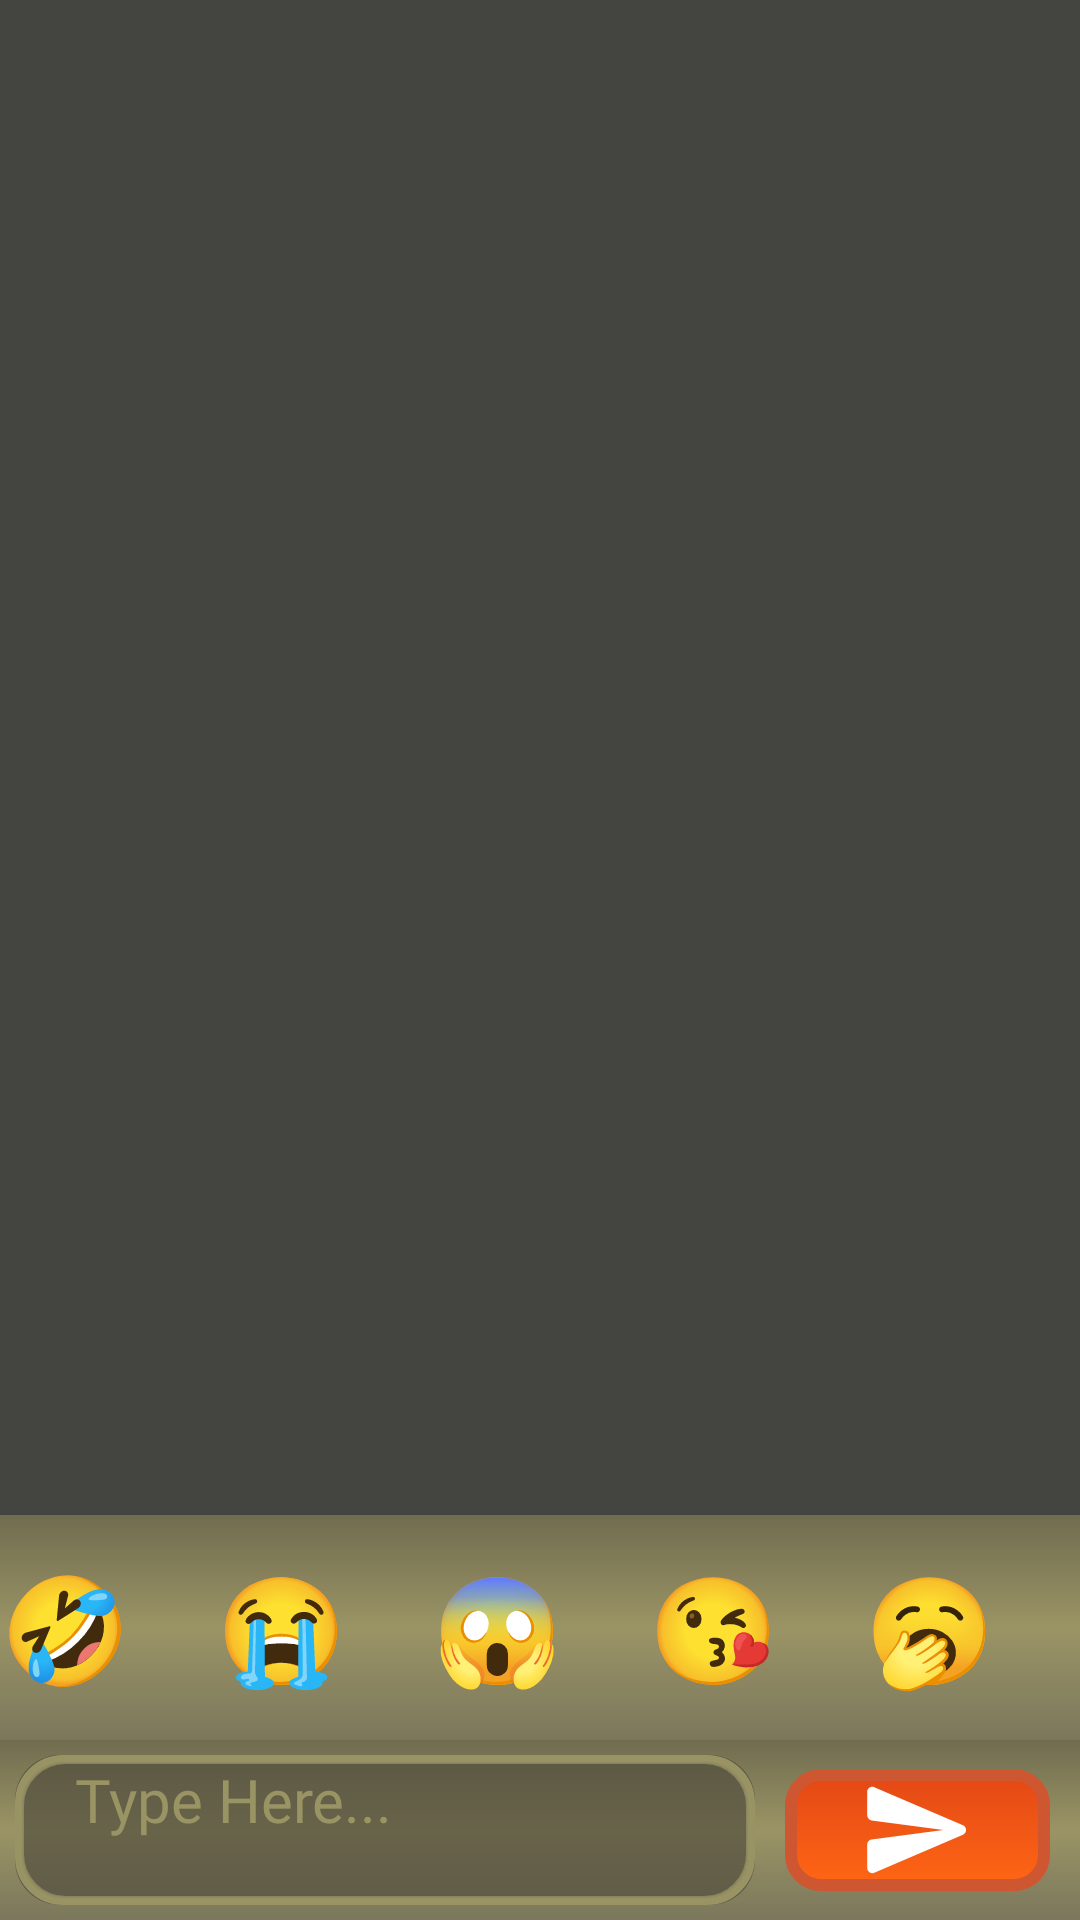

Where icons sit on this 1080 × 1920 app screen, as (x1=x1, y1=y1, x2=x2, y2=y2):
send: (x1=785, y1=1769, x2=1050, y2=1891)
